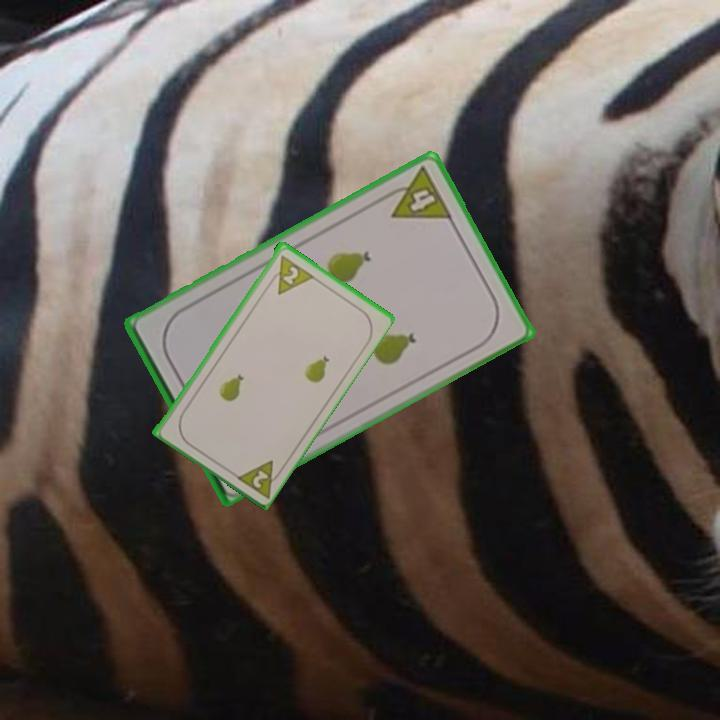2p: (231, 456, 287, 500), (265, 251, 315, 297)
4p: (378, 162, 455, 222)
